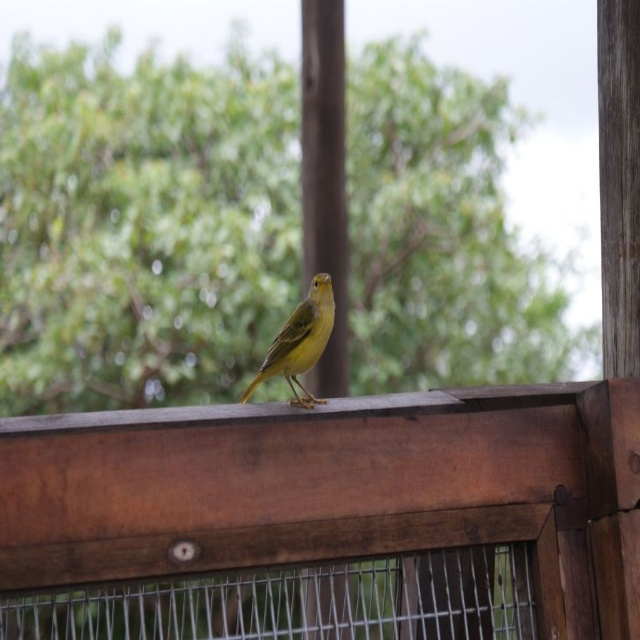Canary: (239, 272, 336, 409)
